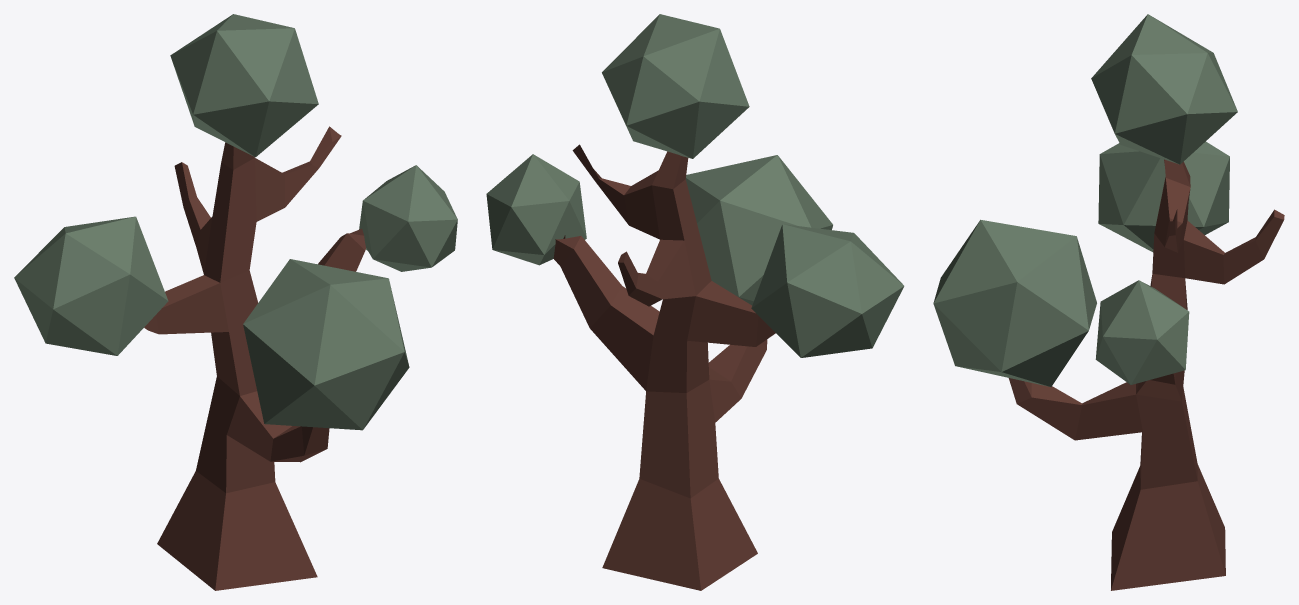
File: forest_tree_5.fbx
3 views of the same model, side by side, from view 1: azimuth 30°, elevation 25°; view 2: azimuth 150°, elevation 25°; view 3: azimuth 270°, elevation 25° (orthographic). The views are drawn at different scales.
Parts seen in each view (by area): view 1: ForestTree5_LOD0; view 2: ForestTree5_LOD0; view 3: ForestTree5_LOD0.
Part boxes in pixels (x1=…): ForestTree5_LOD0: x1=14, y1=14, x2=457, y2=590; ForestTree5_LOD0: x1=486, y1=14, x2=904, y2=590; ForestTree5_LOD0: x1=933, y1=14, x2=1284, y2=590.
Size of what is drawn, in the model's own units: 1600 by 2070 by 1224.
